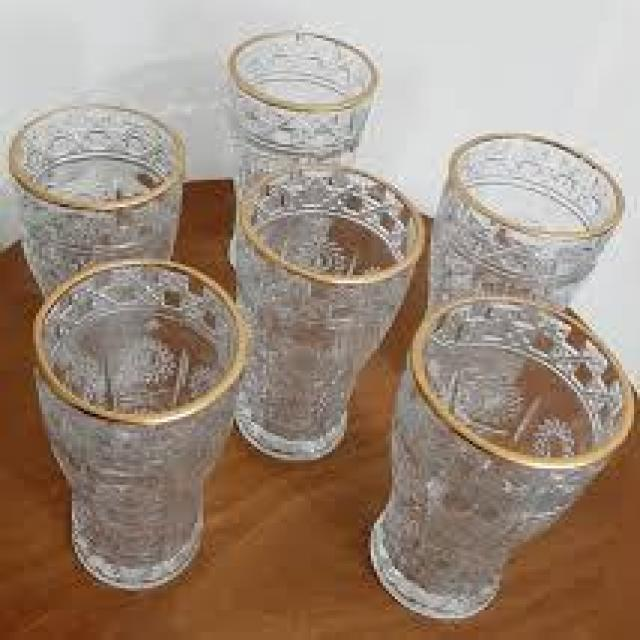non-organic waste: (30, 259, 251, 588)
